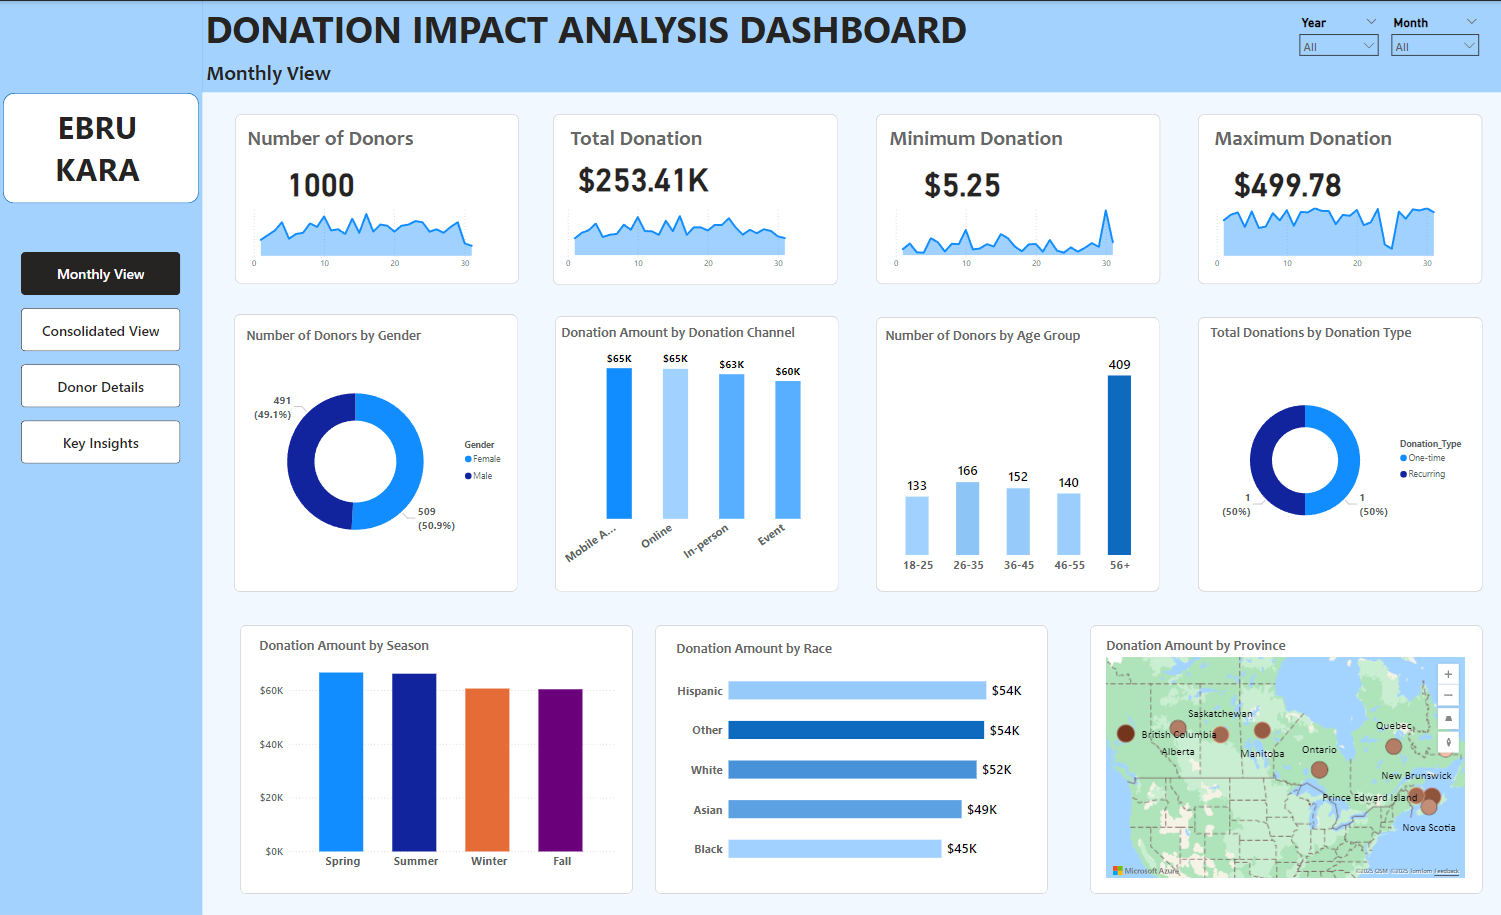

Layout of this report page (visuals, bound fields, positions):
{"tool":"powerbi","page":{"name":"Monthly View","canvas":[2300,1400],"ordinal":0},"visuals":[{"type":"shape","box":[359.2,173.3,435,260],"z":0},{"type":"shape","box":[309.3,0,1990.7,139.8],"z":1000},{"type":"shape","box":[0,0,310,1399.9],"z":2000},{"type":"textbox","box":[309.3,0,1211.2,92.6],"z":3000},{"type":"slicer","fields":{"Values":["Cleaned_Master_Dataset.MonthName"]},"box":[2122,17.5,154.2,104.9],"z":4000},{"type":"slicer","fields":{"Values":["Cleaned_Master_Dataset.Year"]},"box":[1980.5,17.5,141.5,104.9],"z":5000},{"type":"card","fields":{"Values":["Cleaned_Master_Dataset.Number of Donors"]},"box":[373.5,241.6,235.2,68.3],"z":6000},{"type":"textbox","box":[373.5,186,294.1,55],"z":7000},{"type":"areaChart","fields":{"Category":["Cleaned_Master_Dataset.Donation_Date.Variation.Date Hierarchy.Day"],"Y":["Cleaned_Master_Dataset.Number of Donors"]},"box":[373.5,303.6,406.9,116],"z":8000},{"type":"shape","box":[846.6,172.4,436.2,262.1],"z":9000},{"type":"textbox","box":[867.9,186,294.1,55.6],"z":10000},{"type":"card","fields":{"Values":["Sum(Cleaned_Master_Dataset.Donation_Amount)"]},"box":[867.2,234.5,236.2,69],"z":11000},{"type":"areaChart","fields":{"Category":["Cleaned_Master_Dataset.Donation_Date.Variation.Date Hierarchy.Day"],"Y":["Sum(Cleaned_Master_Dataset.Donation_Amount)"]},"box":[855.1,303.6,405.3,116],"z":12000},{"type":"shape","box":[1342.4,173.3,435.5,260.7],"z":13000},{"type":"card","fields":{"Values":["Cleaned_Master_Dataset.Minimum Donation"]},"box":[1357.4,241.6,235.2,68.3],"z":14000},{"type":"textbox","box":[1357.4,186,294.1,55.6],"z":15000},{"type":"areaChart","fields":{"Y":["Cleaned_Master_Dataset.Minimum Donation"],"Category":["Cleaned_Master_Dataset.Donation_Date.Variation.Date Hierarchy.Day"]},"box":[1357.4,303.6,405.3,116],"z":16000},{"type":"shape","box":[1834.3,173.3,435.5,260.7],"z":17000},{"type":"textbox","box":[1854.9,186,294.1,55.6],"z":18000},{"type":"card","fields":{"Values":["Cleaned_Master_Dataset.Maximum Donation"]},"box":[1854.9,241.6,235.2,68.3],"z":19000},{"type":"shape","box":[358.6,479.3,434.5,425.9],"z":20000},{"type":"shape","box":[1669,955.2,601.7,412.1],"z":21000},{"type":"areaChart","fields":{"Y":["Cleaned_Master_Dataset.Maximum Donation"],"Category":["Cleaned_Master_Dataset.Donation_Date.Variation.Date Hierarchy.Day"]},"box":[1848.6,303.6,405.3,116],"z":22000},{"type":"donutChart","fields":{"Category":["Cleaned_Master_Dataset.Gender"],"Y":["Cleaned_Master_Dataset.Number of Donors"]},"box":[372.4,500,410.3,386.2],"z":23000},{"type":"shape","box":[1003.4,955.2,601.7,412.1],"z":24000},{"type":"shape","box":[1342.5,484.5,434.5,420.7],"z":25000},{"type":"columnChart","title":"Number of Donors by Age Group","fields":{"Y":["Cleaned_Master_Dataset.Number of Donors"],"Category":["Cleaned_Master_Dataset.Age_Group"]},"box":[1351.7,500,420.7,386.2],"z":26000},{"type":"azureMap","title":"Donation Amount by Province","fields":{"Category":["Cleaned_Master_Dataset.Province"],"Size":["Sum(Cleaned_Master_Dataset.Donation_Amount)"]},"box":[1689.7,974.1,560.3,374.1],"z":27000},{"type":"shape","box":[850.6,482.8,434.5,422.4],"z":28000},{"type":"shape","box":[1834.5,484.5,436.2,420.7],"z":29000},{"type":"shape","box":[367.2,955.2,601.7,412.1],"z":30000},{"type":"donutChart","title":"Total Donations by Donation Type","fields":{"Category":["Recurring_vs_OneTime_Donations.Donation_Type"],"Y":["CountNonNull(Recurring_vs_OneTime_Donations.Total_Donations)"]},"box":[1848.3,494.8,410.3,391.4],"z":31000},{"type":"columnChart","title":"Donation Amount by Donation Channel","fields":{"Category":["Cleaned_Master_Dataset.Donation_Channel"],"Y":["Sum(Cleaned_Master_Dataset.Donation_Amount)"]},"box":[855.2,494.8,415.5,391.4],"z":32000},{"type":"clusteredBarChart","title":"Donation Amount by Race","fields":{"Category":["Cleaned_Master_Dataset.Race"],"Y":["Sum(Cleaned_Master_Dataset.Donation_Amount)"]},"box":[1031,979.3,560.3,365.5],"z":33000},{"type":"columnChart","title":"Donation Amount by Season","fields":{"Category":["Cleaned_Master_Dataset.Donation_Season"],"Y":["Sum(Cleaned_Master_Dataset.Donation_Amount)"],"Series":["Cleaned_Master_Dataset.Donation_Season"]},"box":[391.4,974.1,555.2,365.5],"z":34000},{"type":"textbox","box":[310.3,86.2,224.1,53.4],"z":35000},{"type":"pageNavigator","box":[32.8,384.5,244.8,327.6],"z":36000},{"type":"shape","box":[5.2,141.4,300,169],"z":37000},{"type":"textbox","box":[32.8,155.2,234.5,148.3],"z":38000}]}

Visuals, with their boxes in screenshot pixels (x1, y1, x2, y2), scaled from the page's 2300x1400 canvas onto the 1501x915 screenshot:
shape: bbox=(234, 113, 518, 283)
shape: bbox=(202, 0, 1500, 91)
shape: bbox=(0, 0, 202, 914)
textbox: bbox=(202, 0, 992, 61)
slicer - Cleaned_Master_Dataset.MonthName: bbox=(1385, 11, 1485, 80)
slicer - Cleaned_Master_Dataset.Year: bbox=(1292, 11, 1385, 80)
card - Cleaned_Master_Dataset.Number of Donors: bbox=(244, 158, 397, 203)
textbox: bbox=(244, 122, 436, 158)
areaChart - Cleaned_Master_Dataset.Donation_Date.Variation.Date Hierarchy.Day x Cleaned_Master_Dataset.Number of Donors: bbox=(244, 198, 509, 274)
shape: bbox=(552, 113, 837, 284)
textbox: bbox=(566, 122, 758, 158)
card - Sum(Cleaned_Master_Dataset.Donation_Amount): bbox=(566, 153, 720, 198)
areaChart - Cleaned_Master_Dataset.Donation_Date.Variation.Date Hierarchy.Day x Sum(Cleaned_Master_Dataset.Donation_Amount): bbox=(558, 198, 823, 274)
shape: bbox=(876, 113, 1160, 284)
card - Cleaned_Master_Dataset.Minimum Donation: bbox=(886, 158, 1039, 203)
textbox: bbox=(886, 122, 1078, 158)
areaChart - Cleaned_Master_Dataset.Minimum Donation x Cleaned_Master_Dataset.Donation_Date.Variation.Date Hierarchy.Day: bbox=(886, 198, 1150, 274)
shape: bbox=(1197, 113, 1481, 284)
textbox: bbox=(1211, 122, 1402, 158)
card - Cleaned_Master_Dataset.Maximum Donation: bbox=(1211, 158, 1364, 203)
shape: bbox=(234, 313, 518, 592)
shape: bbox=(1089, 624, 1482, 894)
areaChart - Cleaned_Master_Dataset.Maximum Donation x Cleaned_Master_Dataset.Donation_Date.Variation.Date Hierarchy.Day: bbox=(1206, 198, 1471, 274)
donutChart - Cleaned_Master_Dataset.Gender x Cleaned_Master_Dataset.Number of Donors: bbox=(243, 327, 511, 579)
shape: bbox=(655, 624, 1048, 894)
shape: bbox=(876, 317, 1160, 592)
"Number of Donors by Age Group" columnChart: bbox=(882, 327, 1157, 579)
"Donation Amount by Province" azureMap: bbox=(1103, 637, 1468, 881)
shape: bbox=(555, 316, 839, 592)
shape: bbox=(1197, 317, 1482, 592)
shape: bbox=(240, 624, 632, 894)
"Total Donations by Donation Type" donutChart: bbox=(1206, 323, 1474, 579)
"Donation Amount by Donation Channel" columnChart: bbox=(558, 323, 829, 579)
"Donation Amount by Race" clusteredBarChart: bbox=(673, 640, 1038, 879)
"Donation Amount by Season" columnChart: bbox=(255, 637, 618, 876)
textbox: bbox=(203, 56, 349, 91)
pageNavigator: bbox=(21, 251, 181, 465)
shape: bbox=(3, 92, 199, 203)
textbox: bbox=(21, 101, 174, 198)
